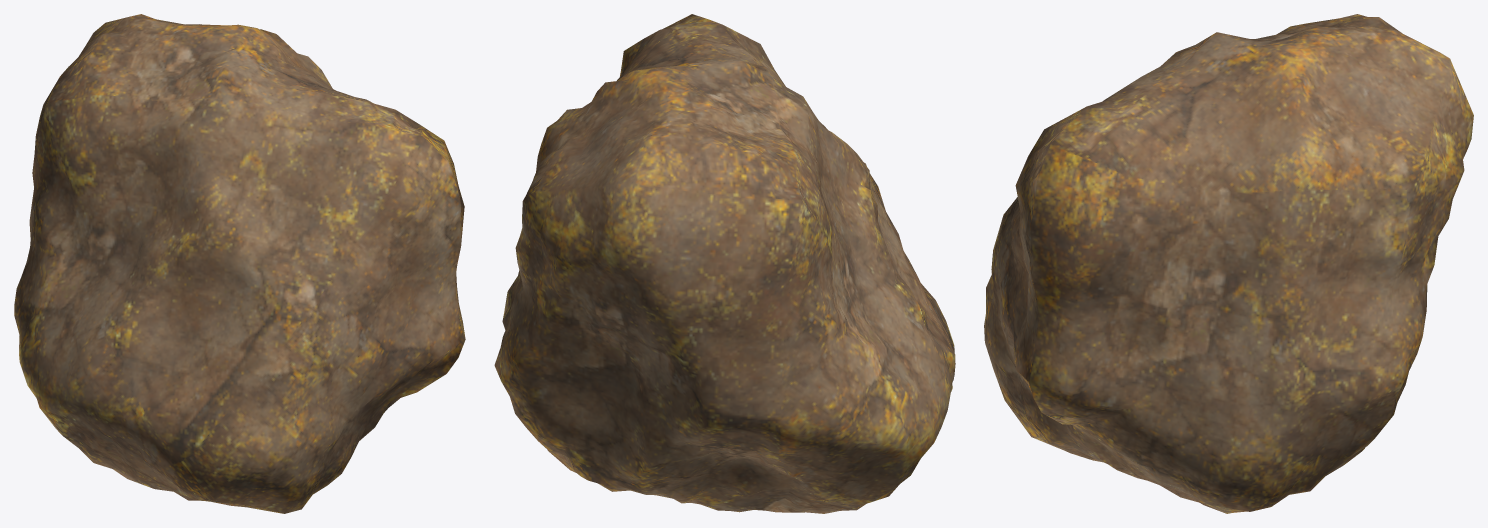
File: rockgold.gltf
3 renders of one model, left to right at view 1: azimuth 30°, elevation 25°; view 2: azimuth 150°, elevation 25°; view 3: azimuth 270°, elevation 25°, orthographic. The views are drawn at different scales.
Visible parts, largest first — view 1: rock; view 2: rock; view 3: rock.
Part boxes in pixels (x1,y1,x2,y2): rock: (14, 14, 465, 513); rock: (494, 14, 955, 513); rock: (984, 14, 1473, 513).
Bounding box in the file's own units: 1.25 × 1.38 × 1.36.
Materials: 1 (1 with a texture image).
